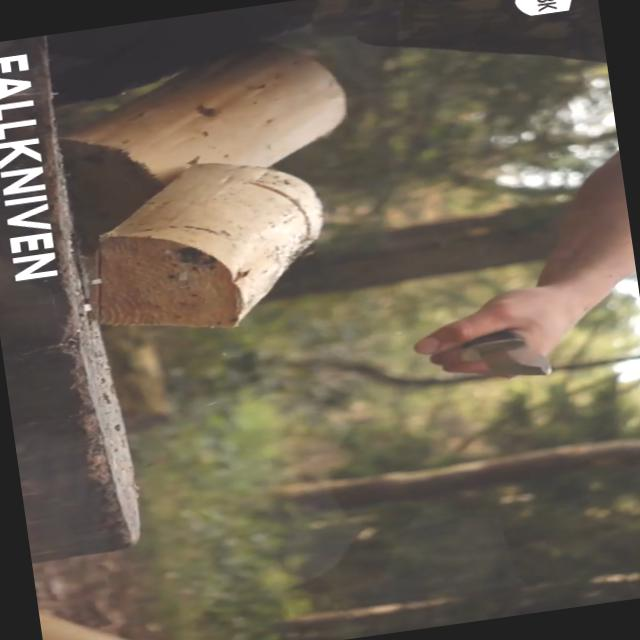knife: (404, 302, 569, 402)
